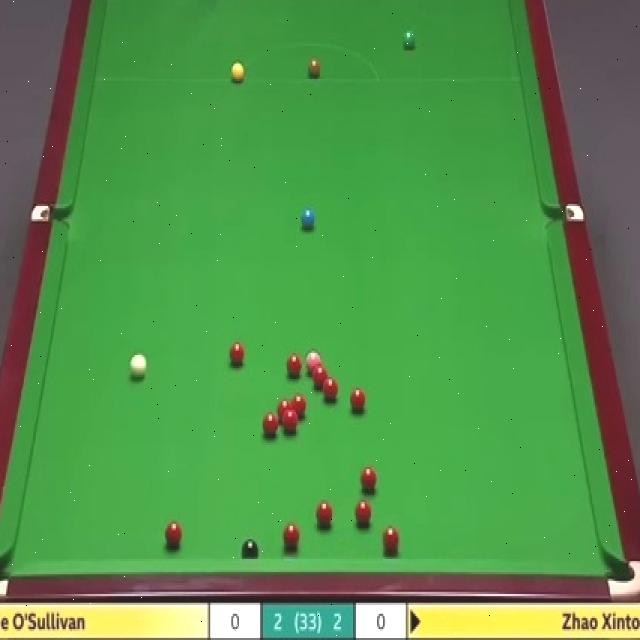black-ball: (245, 541, 263, 559)
blue-ball: (300, 209, 316, 228)
brown-ball: (308, 59, 321, 78)
green-ball: (401, 31, 415, 48)
pink-ball: (306, 350, 321, 373)
red-ball: (316, 499, 334, 529), (359, 467, 378, 494), (383, 524, 401, 552), (283, 355, 303, 378), (355, 500, 372, 527), (228, 339, 246, 364), (262, 411, 278, 438), (165, 523, 182, 548), (350, 387, 367, 412), (293, 392, 311, 415), (321, 376, 337, 400), (282, 523, 300, 544), (283, 409, 298, 432), (312, 364, 328, 384), (278, 400, 292, 420)
white-ball: (128, 350, 146, 381)
yellow-ball: (231, 61, 244, 84)
